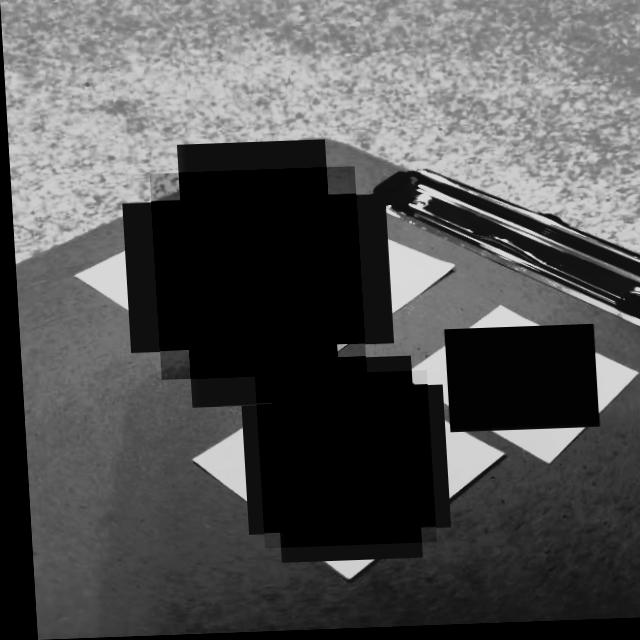qr_code: (147, 169, 362, 381), (250, 374, 430, 551), (440, 329, 594, 435)
